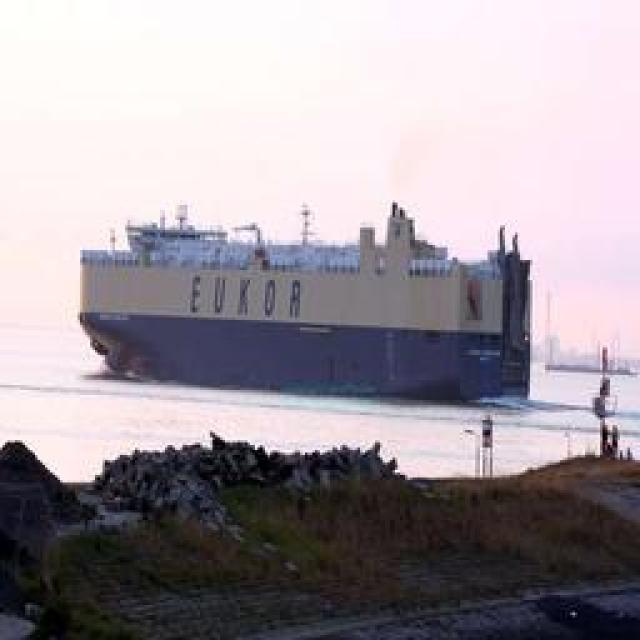ship2: (77, 199, 533, 403)
